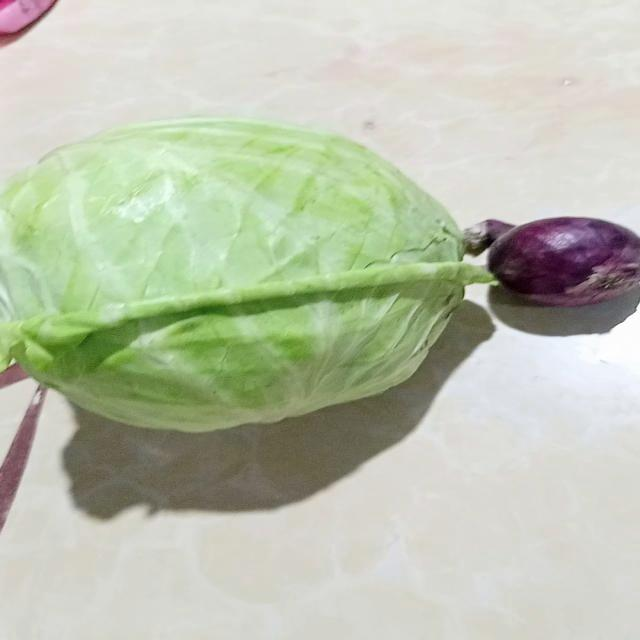cabbage: (0, 117, 475, 435)
onion: (468, 215, 640, 308)
